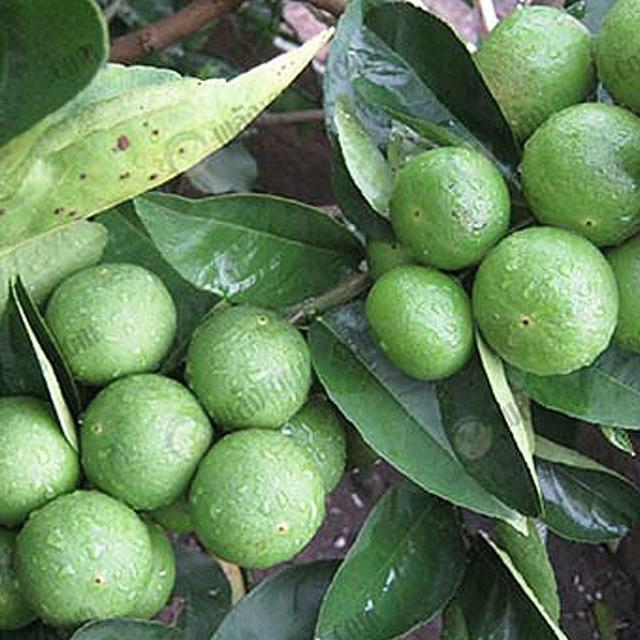lime: (464, 220, 634, 383), (184, 418, 334, 576), (4, 486, 160, 636), (74, 366, 218, 518), (36, 256, 186, 390), (470, 0, 604, 147), (182, 299, 324, 432), (384, 140, 516, 282), (360, 258, 482, 398), (516, 105, 640, 237), (0, 387, 92, 531), (604, 199, 640, 363)
